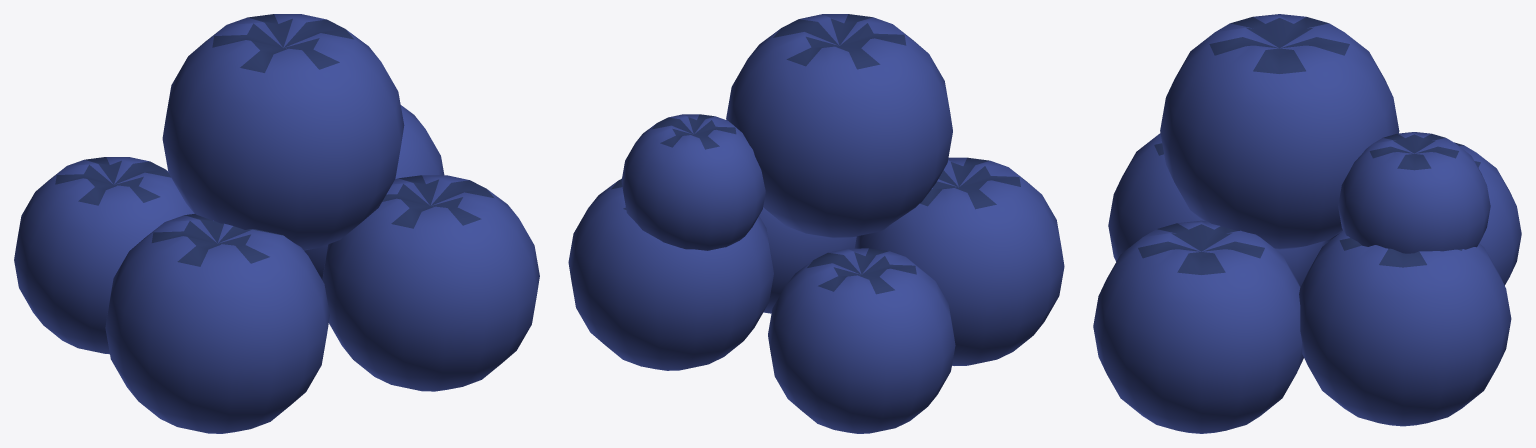
Rendered from blueberry.glb.
The picture shows the model from 3 angles, left to right: view 1: azimuth 30°, elevation 25°; view 2: azimuth 150°, elevation 25°; view 3: azimuth 270°, elevation 25°; orthographic projection. The views are drawn at different scales.
Parts seen in each view (by area): view 1: blueberry; view 2: blueberry; view 3: blueberry.
Boxes of the visible parts, x1=… form: blueberry: x1=14, y1=14, x2=539, y2=433; blueberry: x1=568, y1=14, x2=1064, y2=433; blueberry: x1=1093, y1=14, x2=1521, y2=433.
Bounding box in the file's own units: 0.489 × 0.3981 × 0.455.
